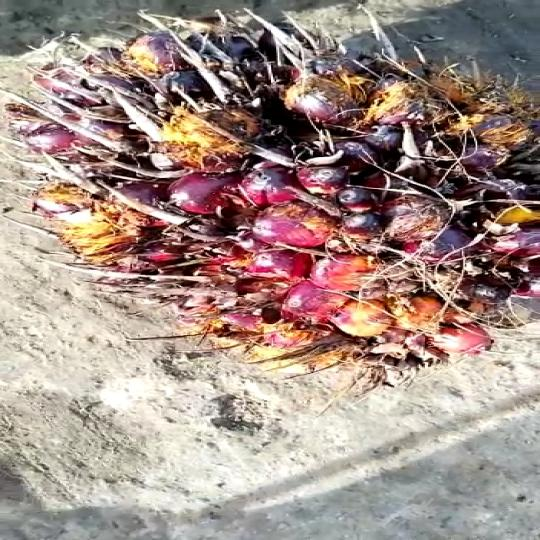masak: (0, 11, 540, 374)
